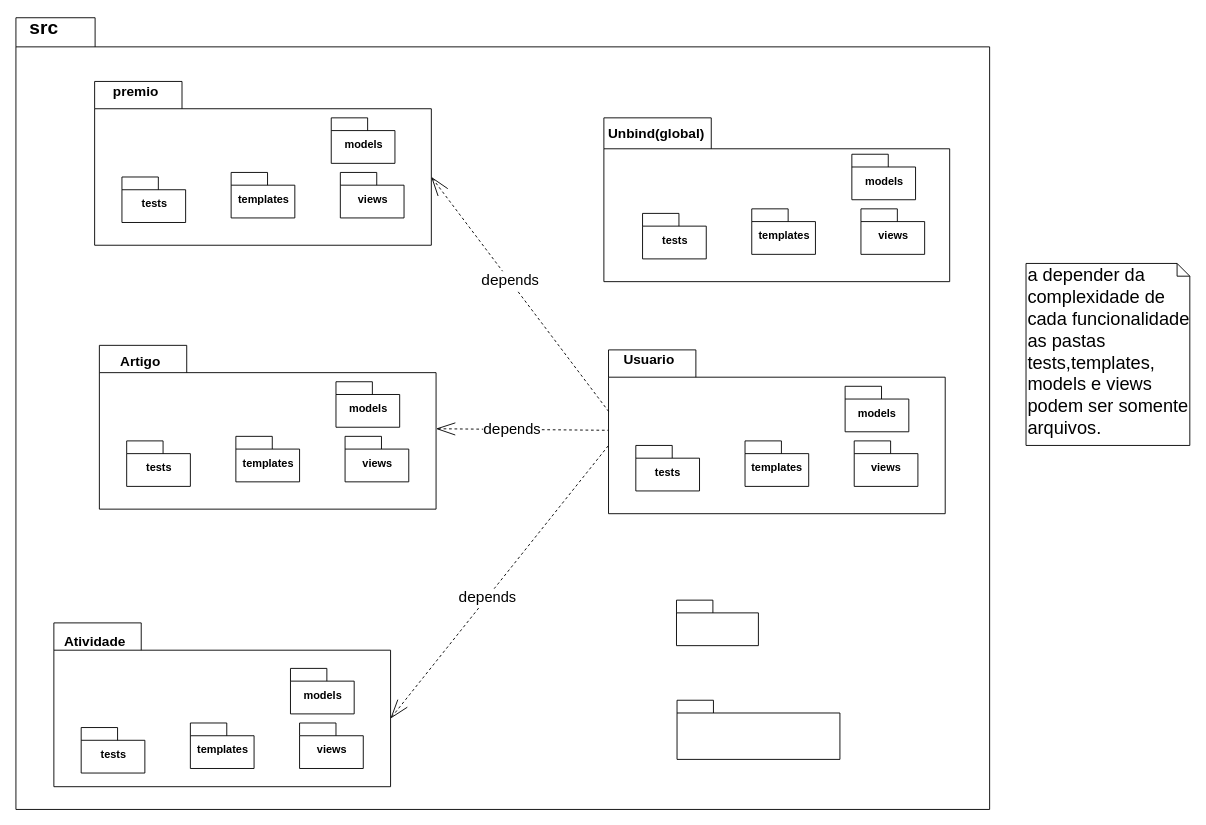
This 1206x825 diagram has some shape labels left out. Here are the shapes that lost their labels. From the top down, the box of each, then its label:
(676, 599, 758, 646): bootstrap
(676, 699, 840, 759): Arquivos estáticos (Imagens, PDF, etc)
